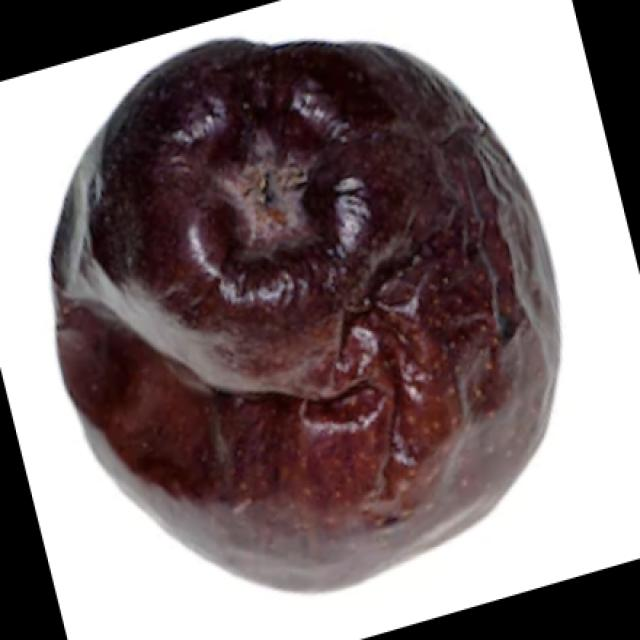organik: (19, 27, 586, 628)
